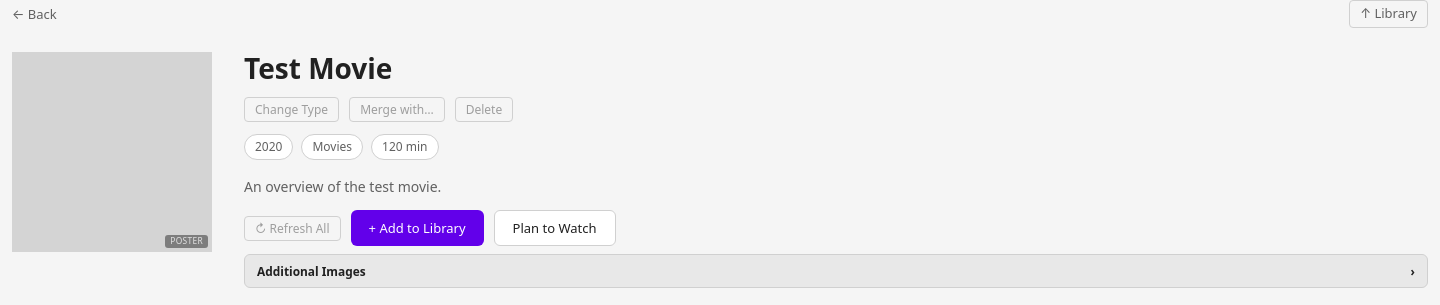
Test case: MediaDetailPage › refreshes metadata and reflects the updated item returned by the API
This screenshot has width=1440, height=305.
Check: the heading "Test Movie" is shown, box [244,48,392,86]
Click the button "↻ Refresh All" at (292, 228), box [244,216,341,241]
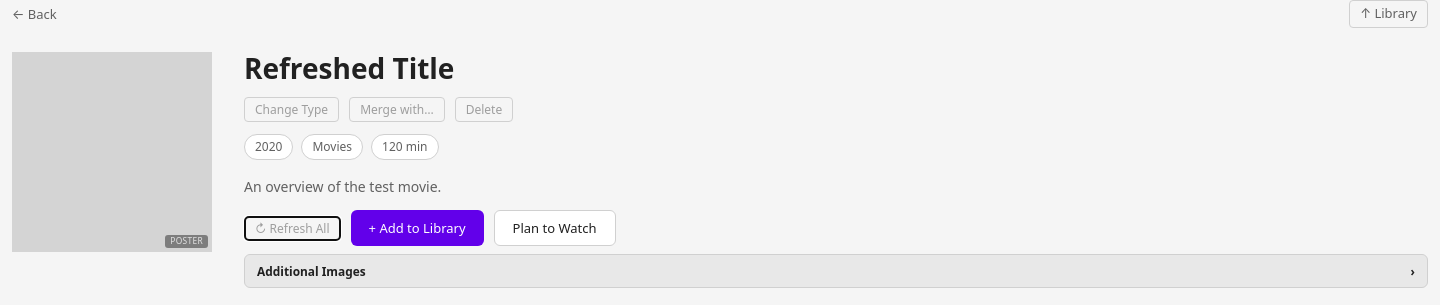
Check: the heading "Refreshed Title" is shown, box [244,48,454,86]
